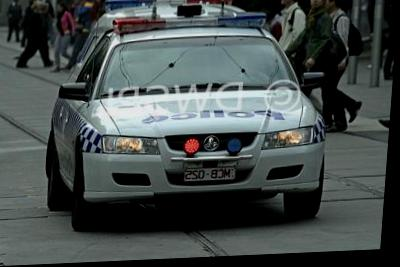License_Plate: (184, 165, 238, 180)
